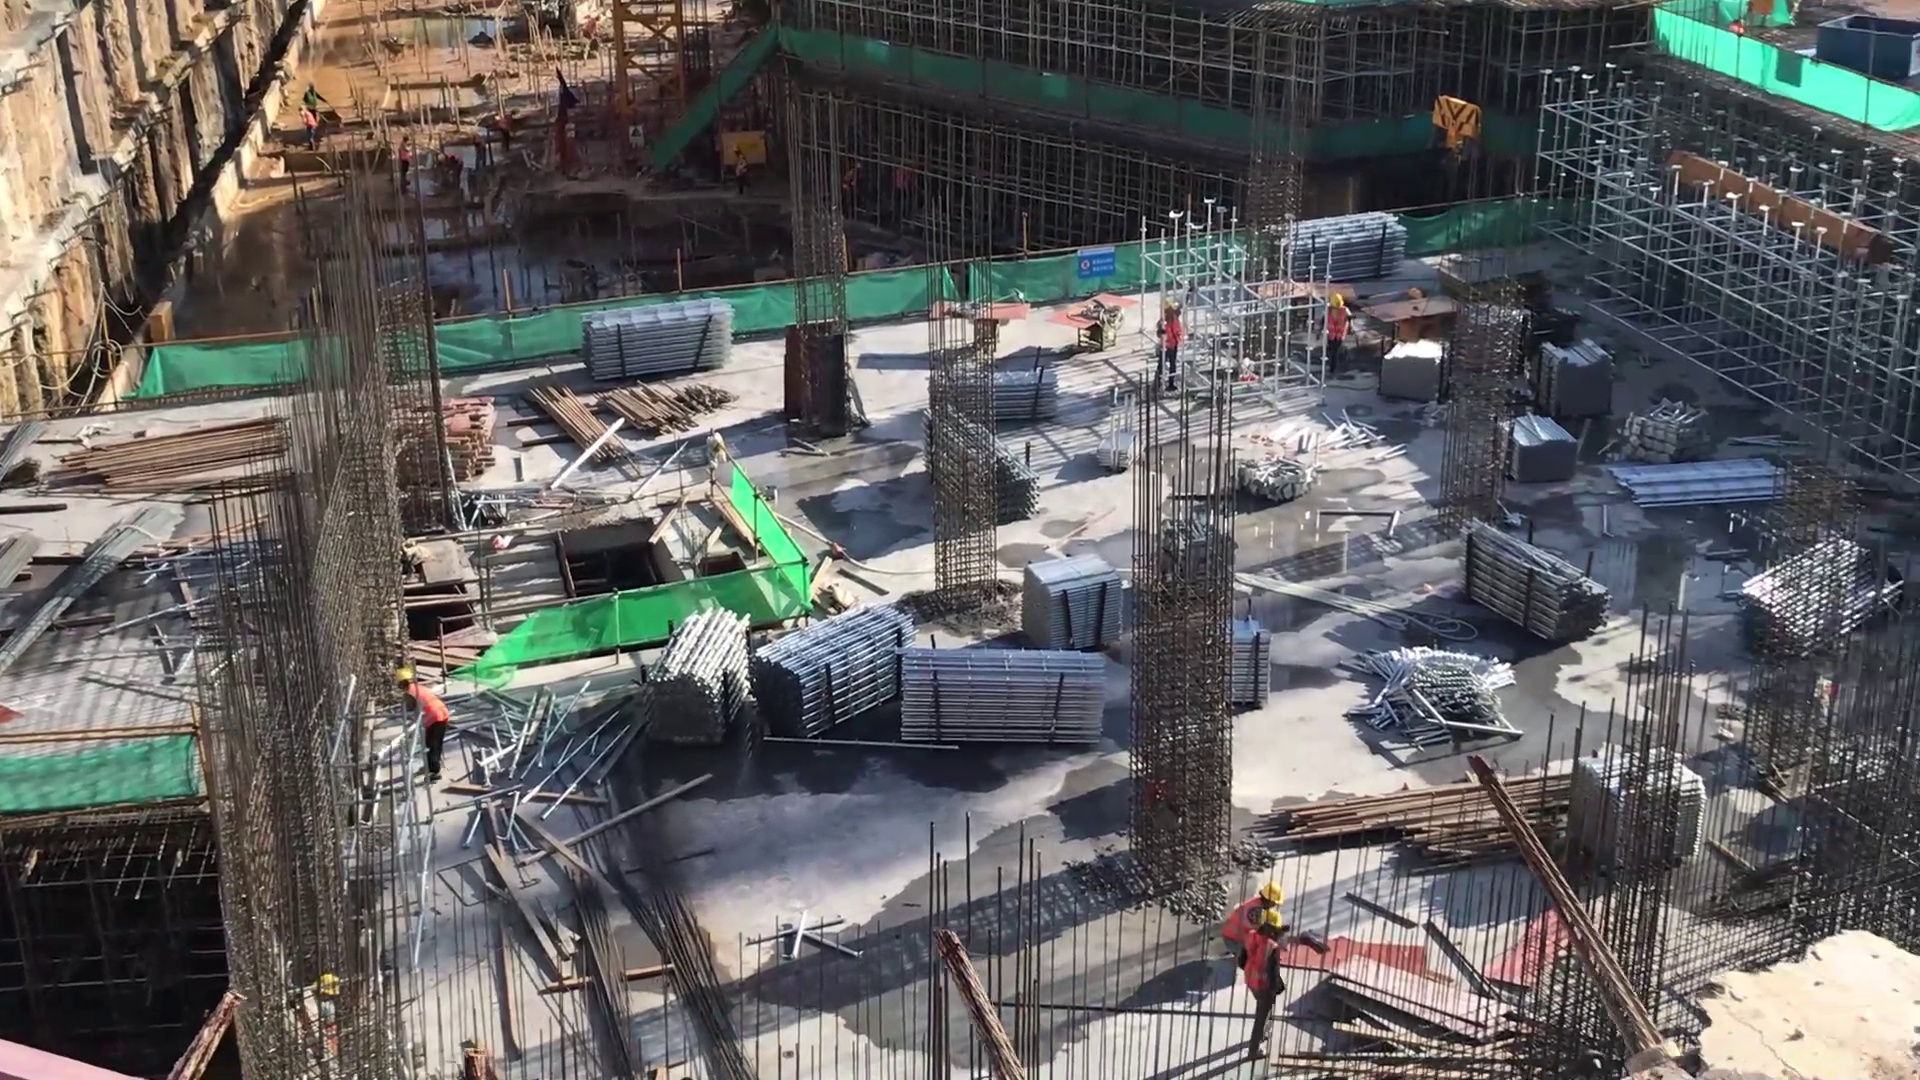cutter: (1040, 288, 1143, 366), (926, 291, 1035, 356)
ebox: (715, 121, 774, 183)
helmet: (1254, 901, 1290, 936), (1250, 878, 1288, 906), (388, 664, 422, 688), (1322, 290, 1349, 311), (1159, 299, 1176, 317)
hook: (1422, 86, 1488, 171)
hopper: (1812, 12, 1920, 86)
person: (1235, 908, 1293, 1064), (387, 658, 456, 786), (1212, 877, 1288, 970), (1149, 297, 1191, 389), (1320, 282, 1357, 382)
scaffold: (753, 594, 923, 752), (889, 639, 1115, 757), (1453, 509, 1610, 643), (642, 599, 761, 749), (573, 294, 742, 388), (1019, 544, 1124, 660), (1279, 206, 1416, 289), (1523, 338, 1626, 428), (1502, 410, 1590, 486), (1376, 335, 1458, 406), (987, 361, 1063, 425)
vest: (401, 688, 456, 738), (1235, 936, 1280, 997), (1215, 900, 1257, 948), (1151, 316, 1188, 354), (1322, 308, 1352, 349)
